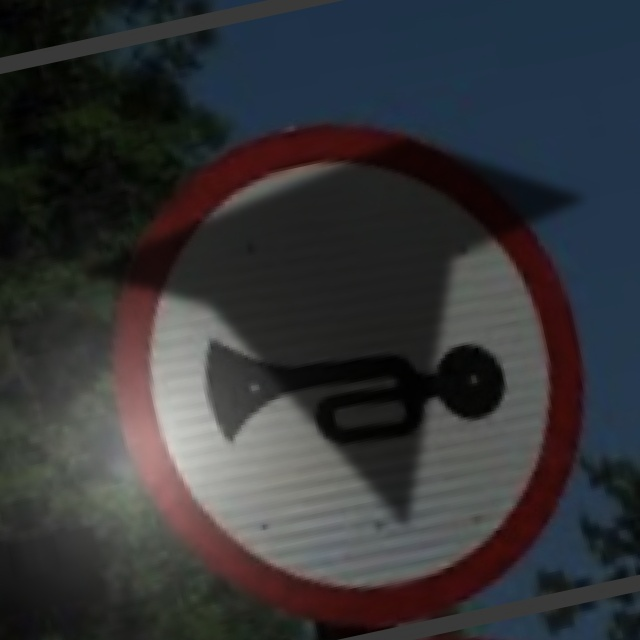Compulsory_Sound_Horn: (82, 93, 606, 630)
